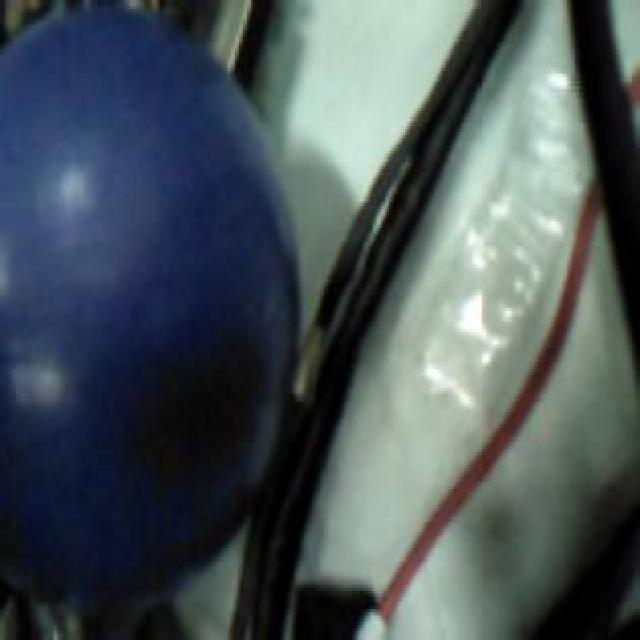BallPurple: (0, 9, 300, 588)
